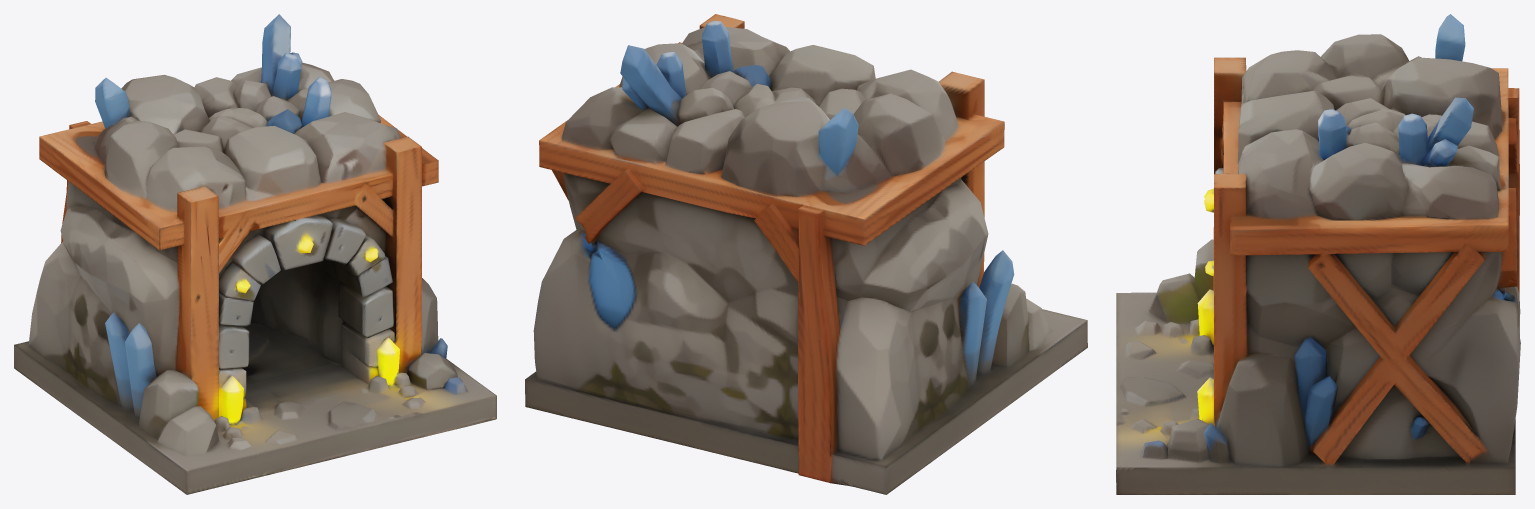
File: base_basic_shaded.fbx
3 renders of one model, left to right at view 1: azimuth 30°, elevation 25°; view 2: azimuth 150°, elevation 25°; view 3: azimuth 270°, elevation 25°, orthographic. The views are drawn at different scales.
Parts seen in each view (by area): view 1: model; view 2: model; view 3: model.
Boxes of the visible parts, x1,y1,x2,y2 form: model: (14, 14, 496, 494); model: (525, 14, 1087, 494); model: (1116, 14, 1520, 494).
Bounding box in the file's own units: 175 × 168 × 172.
